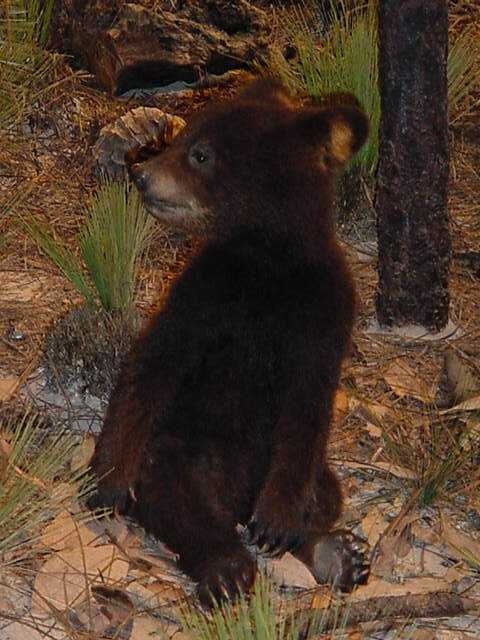bear: (123, 115, 251, 243)
